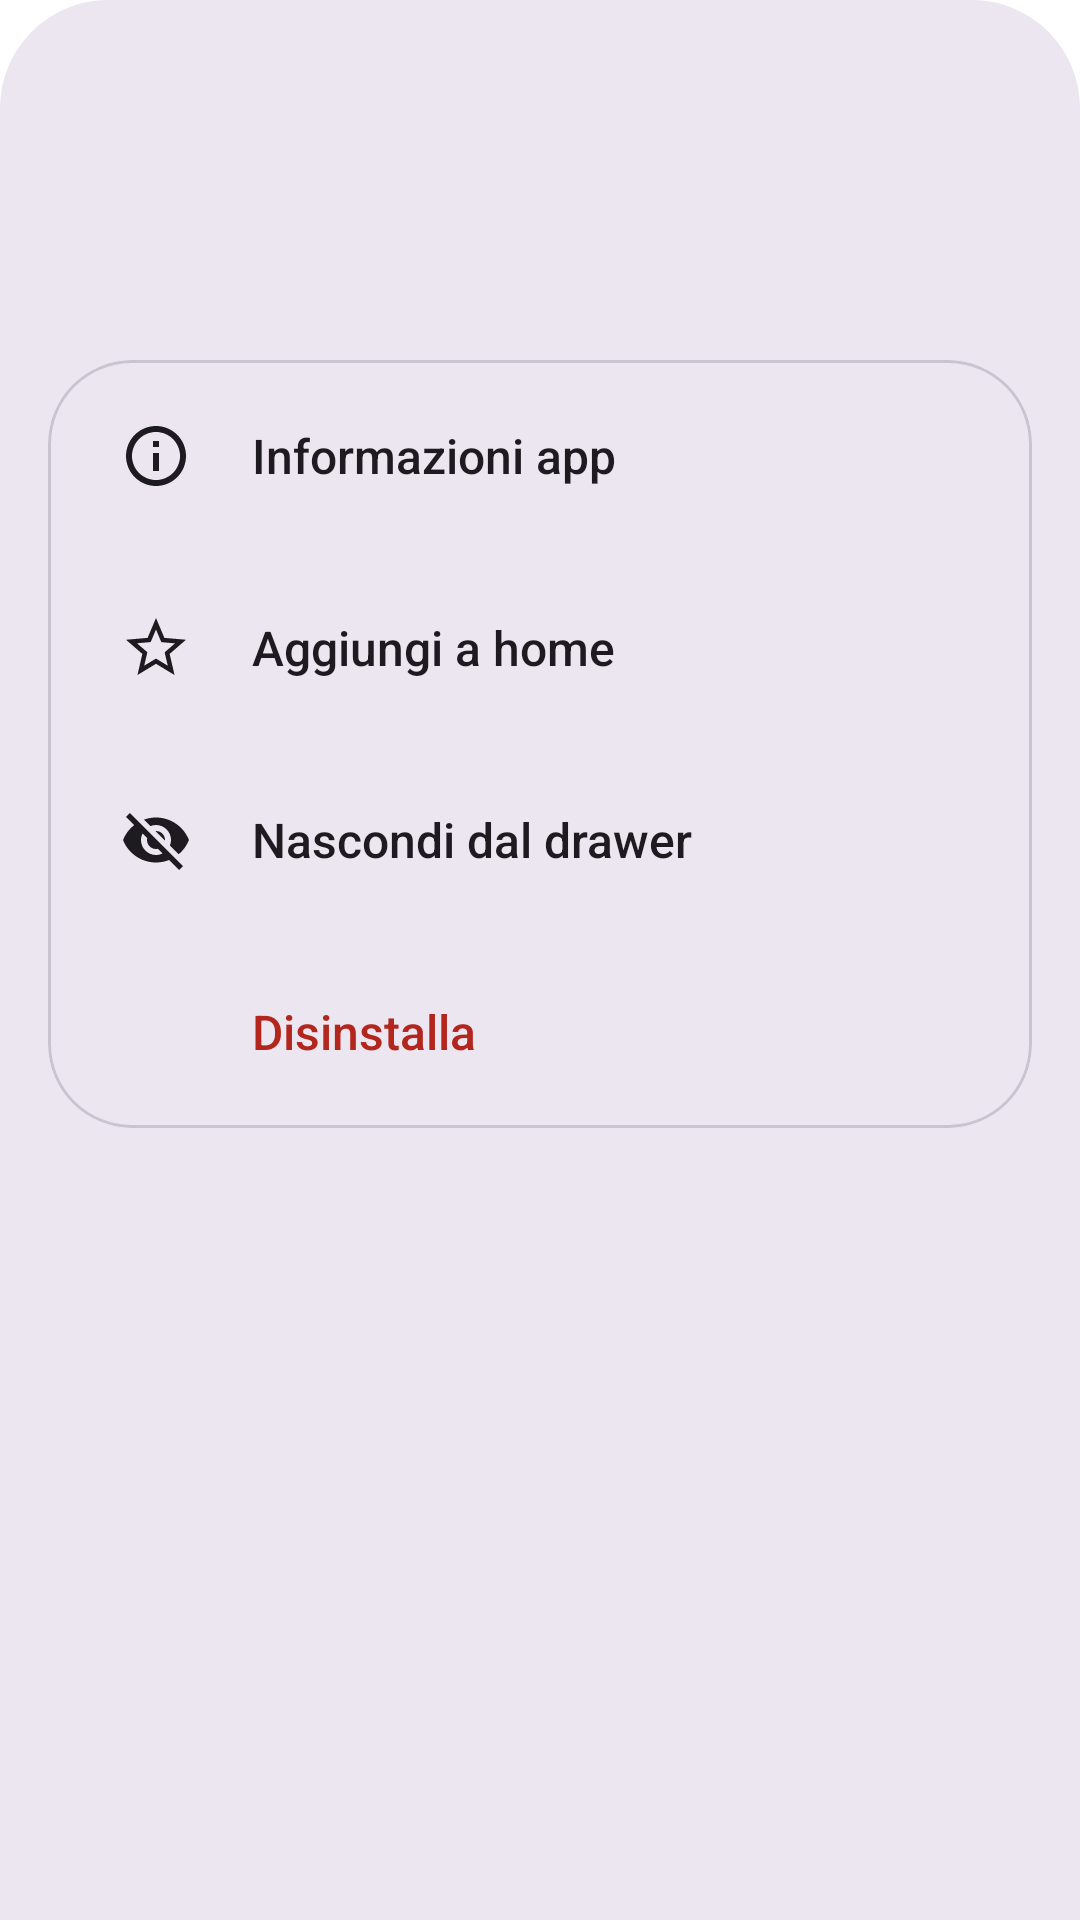

Icons on this 1080 × 1920 Android screen, each with its box as (x1, y1, x2, y2):
star: (126, 618, 186, 675)
visibility off: (123, 813, 189, 870)
